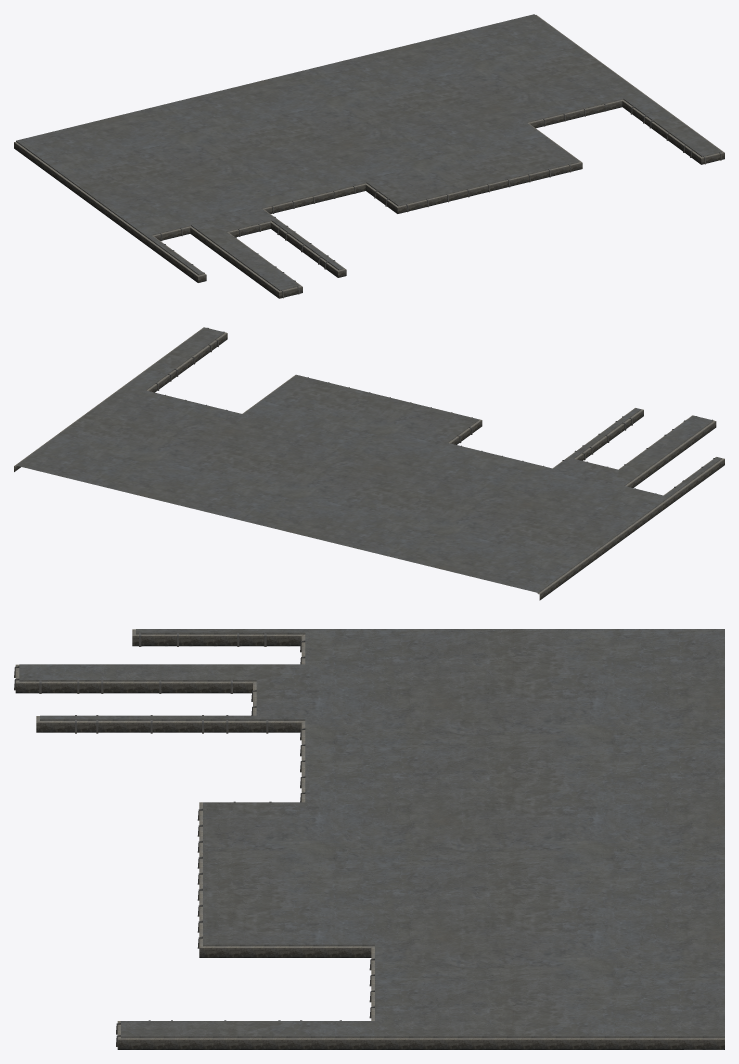
File: Dhz_zsdiji_01.FBX
3 renders of one model, top to bottom at view 1: azimuth 30°, elevation 25°; view 2: azimuth 150°, elevation 25°; view 3: azimuth 270°, elevation 25°, orthographic. The views are drawn at different scales.
Parts seen in each view (by area): view 1: Dhz_zsdiji_01; view 2: Dhz_zsdiji_01; view 3: Dhz_zsdiji_01.
Part boxes in pixels (x1=…): Dhz_zsdiji_01: x1=14, y1=14, x2=724, y2=298; Dhz_zsdiji_01: x1=14, y1=327, x2=724, y2=600; Dhz_zsdiji_01: x1=14, y1=629, x2=724, y2=1049.
Bounding box in the file's own units: 1200 × 16.23 × 879.
